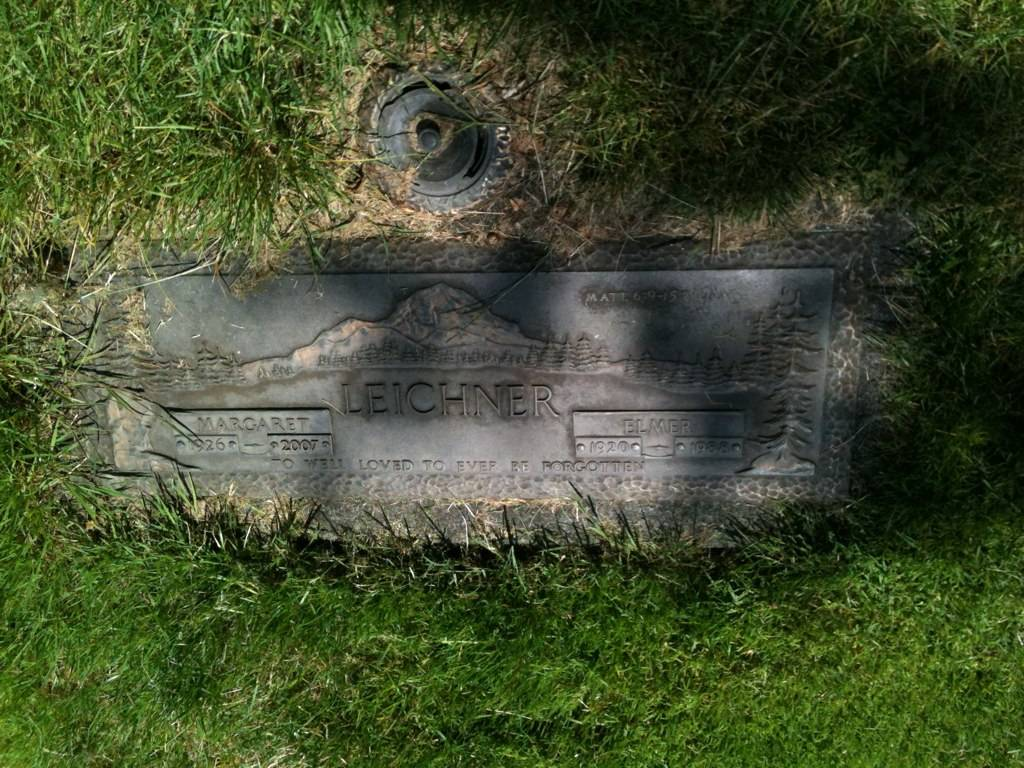flat: (53, 205, 881, 564)
